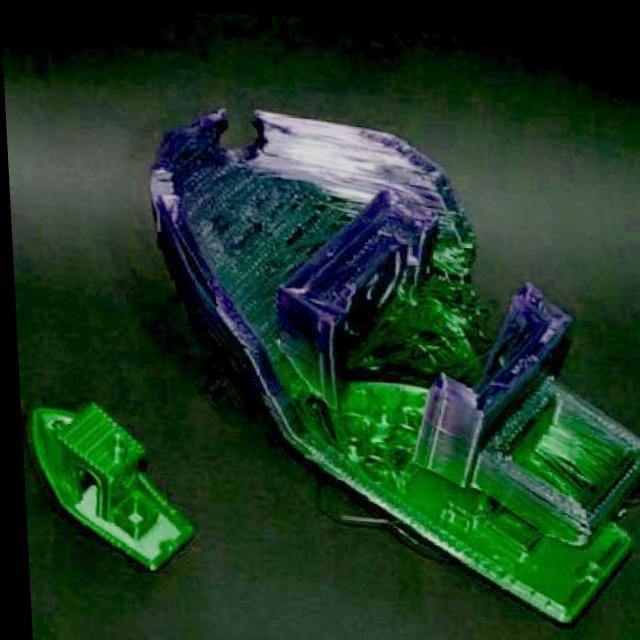spaghetti: (334, 220, 495, 381)
